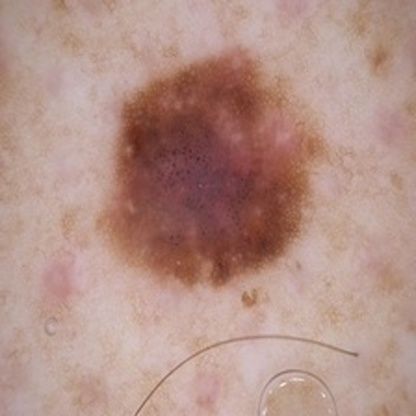benign: (125, 80, 303, 264)
